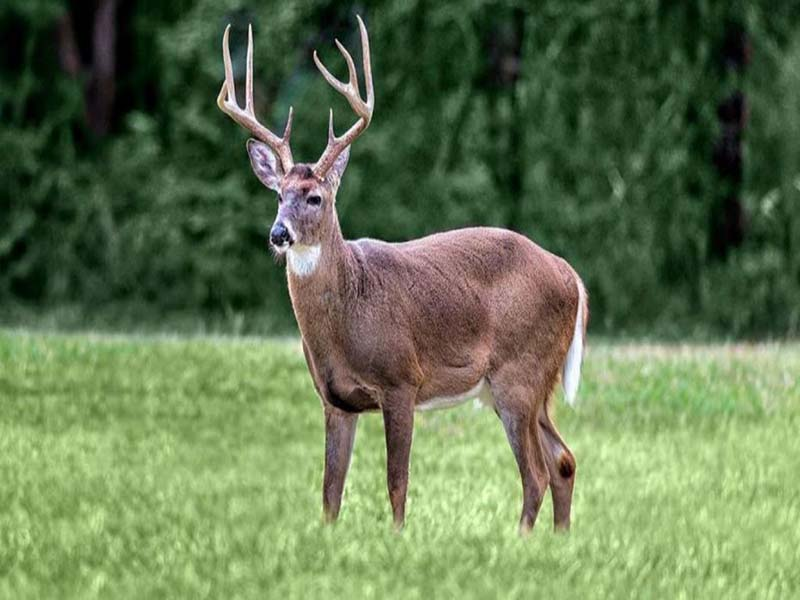cervo: (214, 14, 589, 546)
